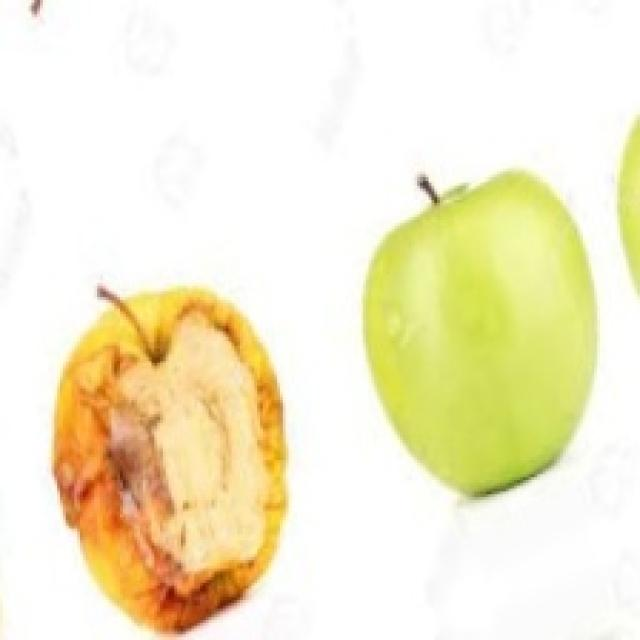rotten_apple: (58, 292, 284, 624)
